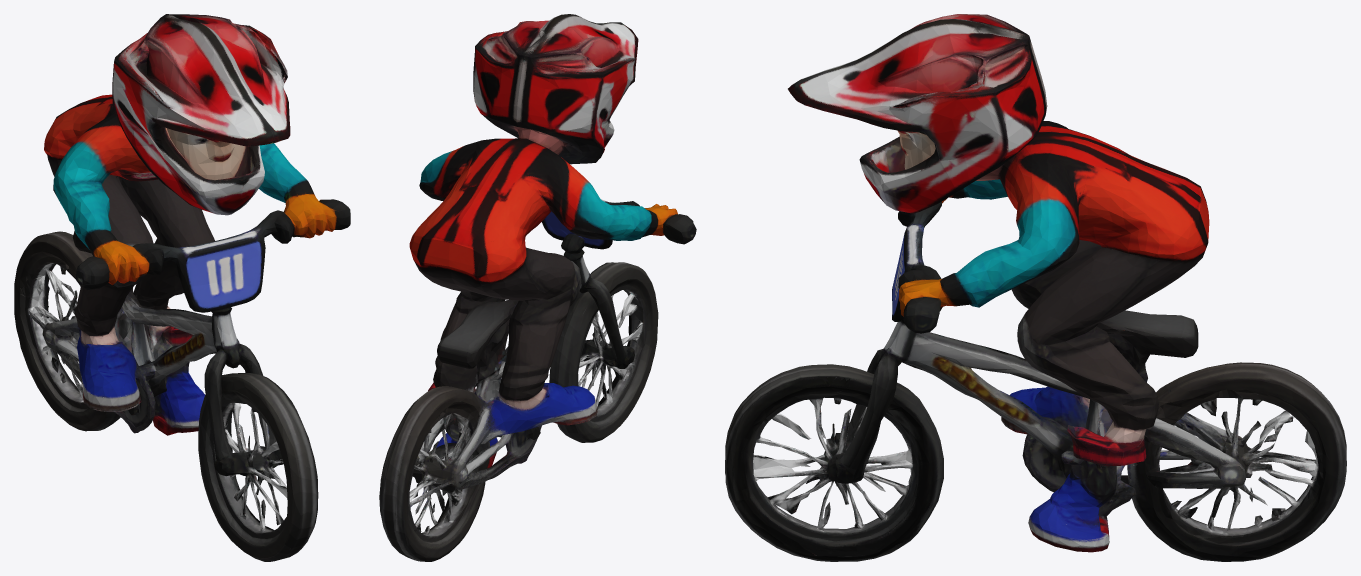
File: miron.glb
3 views of the same model, side by side, from view 1: azimuth 30°, elevation 25°; view 2: azimuth 150°, elevation 25°; view 3: azimuth 270°, elevation 25° (orthographic). The views are drawn at different scales.
Parts seen in each view (by area): view 1: world; view 2: world; view 3: world.
Boxes of the visible parts, bbox=[...] form: world: bbox=[14, 14, 350, 561]; world: bbox=[379, 14, 696, 561]; world: bbox=[725, 14, 1346, 561].
Bounding box in the file's own units: 0.5487 × 0.958 × 1.
Materials: 1 (1 with a texture image).
